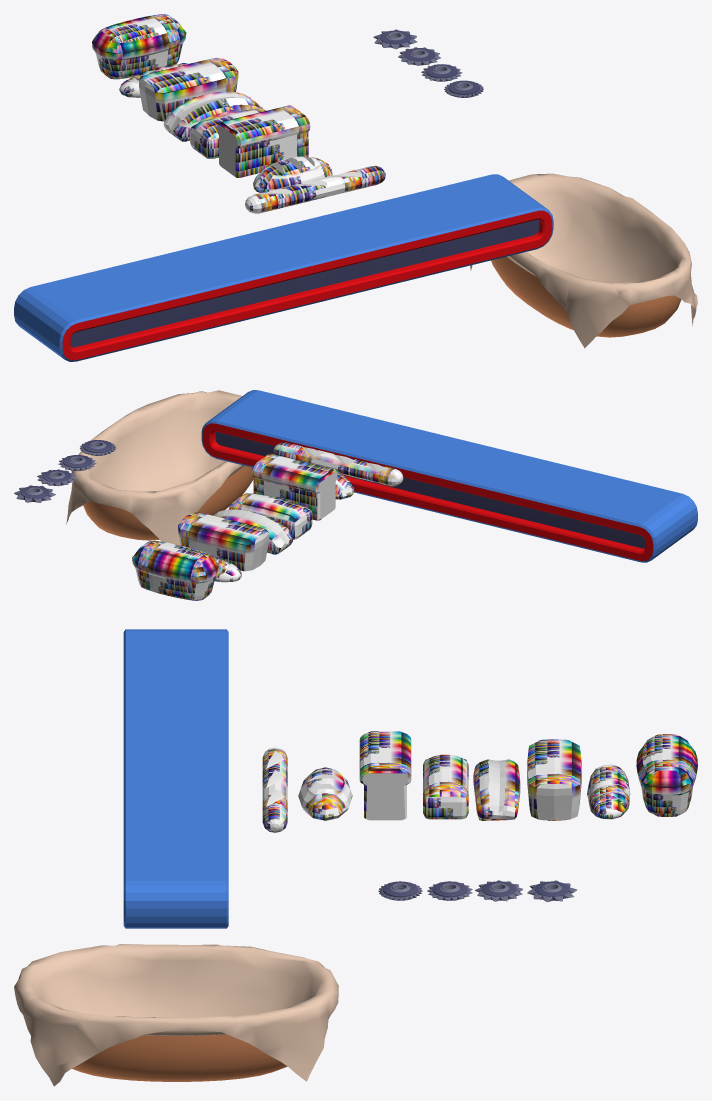
The model's file is Bread_Slicer3.fbx.
3 views of the same model, one above another, from view 1: azimuth 30°, elevation 25°; view 2: azimuth 150°, elevation 25°; view 3: azimuth 270°, elevation 25° (orthographic). The views are drawn at different scales.
Parts seen in each view (by area): view 1: Plane.004, paper, Plane.005, Toast, Cube, Cube.003, Baguette, MultiGrainBread.001, White Bread, Vollkornbrot.001, dev_bred.ogf 00; view 2: Plane.004, paper, Plane.005, Cube, Toast, Cube.003, Baguette, Vollkornbrot.001, MultiGrainBread.001, dev_bred.ogf 00, White Bread; view 3: paper, Plane.004, Toast, Cube.003, Cube, Vollkornbrot.001, MultiGrainBread.001, White Bread, Baguette, dev_bred.ogf 00.
Part boxes in pixels (left/top/right/bottom): Plane.004: left=14, top=174, right=553, bottom=361; paper: left=470, top=173, right=697, bottom=348; Plane.005: left=70, top=219, right=539, bottom=347; Toast: left=217, top=105, right=310, bottom=177; Cube: left=92, top=14, right=186, bottom=79; Cube.003: left=139, top=57, right=238, bottom=121; Baguette: left=245, top=165, right=385, bottom=213; MultiGrainBread.001: left=163, top=91, right=262, bottom=141; White Bread: left=253, top=156, right=332, bottom=192; Vollkornbrot.001: left=190, top=108, right=266, bottom=158; dev_bred.ogf 00: left=119, top=63, right=191, bottom=97; Plane.004: left=201, top=390, right=697, bottom=562; paper: left=66, top=390, right=253, bottom=545; Plane.005: left=215, top=432, right=645, bottom=548; Cube: left=132, top=540, right=218, bottom=600; Toast: left=251, top=453, right=337, bottom=520; Cube.003: left=178, top=512, right=269, bottom=571; Baguette: left=273, top=442, right=403, bottom=486; Vollkornbrot.001: left=228, top=493, right=312, bottom=539; MultiGrainBread.001: left=213, top=509, right=293, bottom=554; dev_bred.ogf 00: left=211, top=555, right=241, bottom=582; White Bread: left=335, top=471, right=354, bottom=499; paper: left=14, top=944, right=338, bottom=1086; Plane.004: left=123, top=629, right=228, bottom=928; Toast: left=359, top=731, right=411, bottom=820; Cube.003: left=527, top=739, right=581, bottom=820; Cube: left=636, top=734, right=697, bottom=816; Vollkornbrot.001: left=423, top=754, right=468, bottom=819; MultiGrainBread.001: left=473, top=759, right=520, bottom=820; White Bread: left=298, top=767, right=352, bottom=820; Baguette: left=262, top=747, right=287, bottom=832; dev_bred.ogf 00: left=587, top=764, right=630, bottom=819.
Size of the model in its own units: 18.47 by 4.87 by 15.91.
